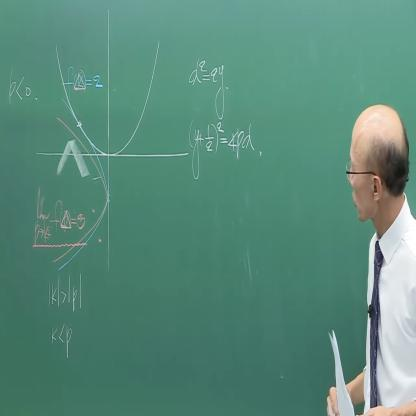streamer: (327, 102, 416, 416)
